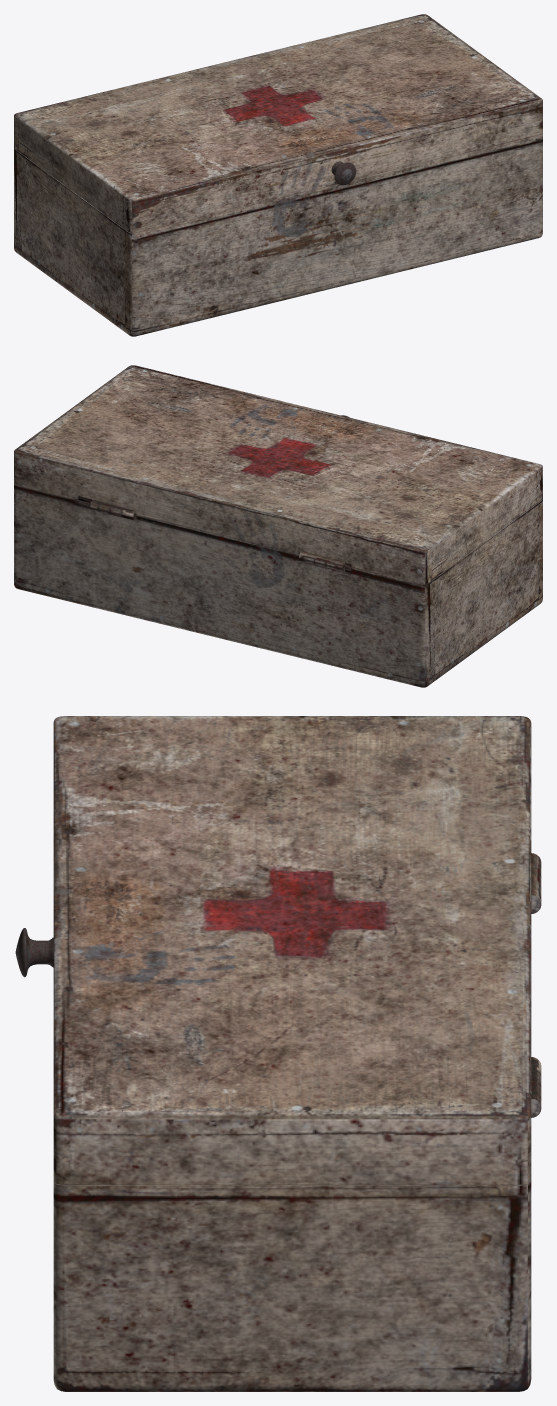
The model's file is russian_first_aid_kit_v3.glb.
3 views of the same model, one above another, from view 1: azimuth 30°, elevation 25°; view 2: azimuth 150°, elevation 25°; view 3: azimuth 270°, elevation 25° (orthographic). The views are drawn at different scales.
Visible parts, largest first — view 1: Box001; view 2: Box001; view 3: Box001.
Part boxes in pixels (<box>): Box001: <box>14,14,542,336</box>; Box001: <box>14,365,542,687</box>; Box001: <box>15,716,541,1391</box>.
Bounding box in the file's own units: 1.6 × 0.5137 × 0.8807.
1 material, 1 textured.
